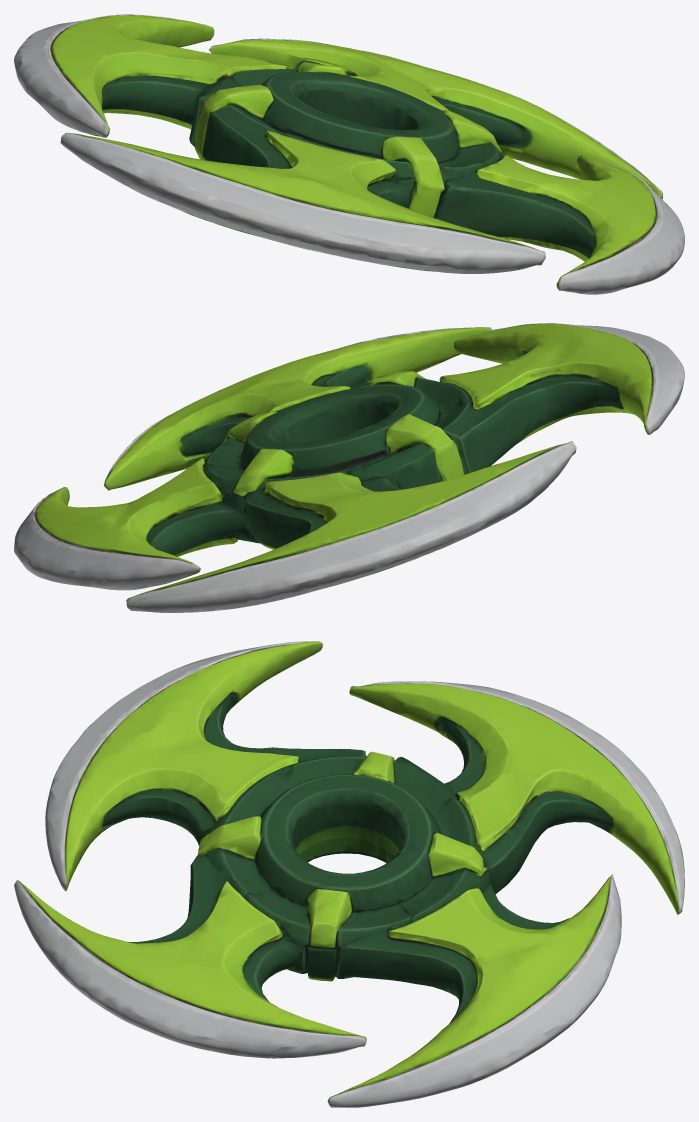
File: blade_cyclone.glb
The picture shows the model from 3 angles, top to bottom: view 1: azimuth 30°, elevation 25°; view 2: azimuth 150°, elevation 25°; view 3: azimuth 270°, elevation 25°; orthographic projection. The views are drawn at different scales.
Parts seen in each view (by area): view 1: tripo_node_c4ae949d-7ba5-4bdb-9637-759f9f2075cb; view 2: tripo_node_c4ae949d-7ba5-4bdb-9637-759f9f2075cb; view 3: tripo_node_c4ae949d-7ba5-4bdb-9637-759f9f2075cb.
Boxes of the visible parts, left/top/right/bottom form: tripo_node_c4ae949d-7ba5-4bdb-9637-759f9f2075cb: left=14, top=14, right=684, bottom=294; tripo_node_c4ae949d-7ba5-4bdb-9637-759f9f2075cb: left=14, top=323, right=684, bottom=612; tripo_node_c4ae949d-7ba5-4bdb-9637-759f9f2075cb: left=14, top=641, right=684, bottom=1107.
Size of the model in its own units: 0.9508 by 0.3409 by 1.
Materials: 1 (1 with a texture image).
